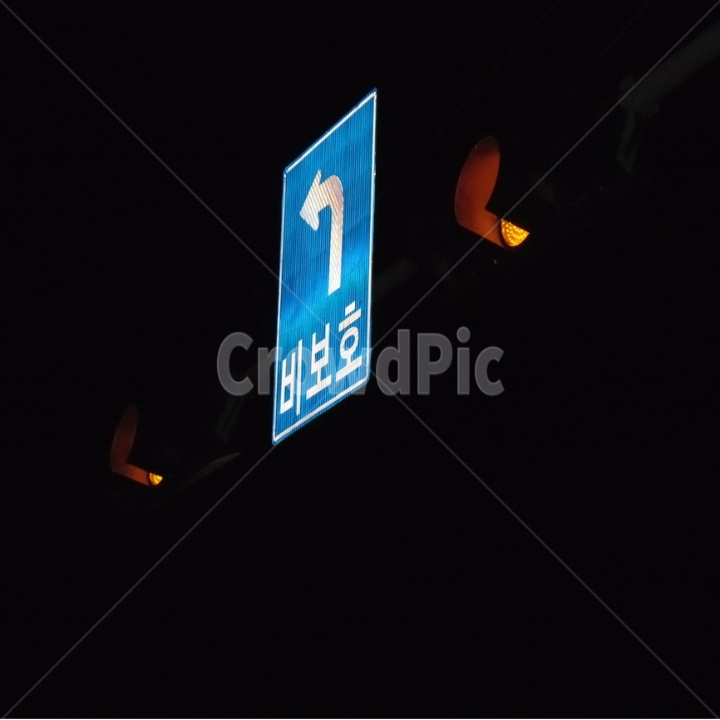left: (291, 163, 353, 300)
